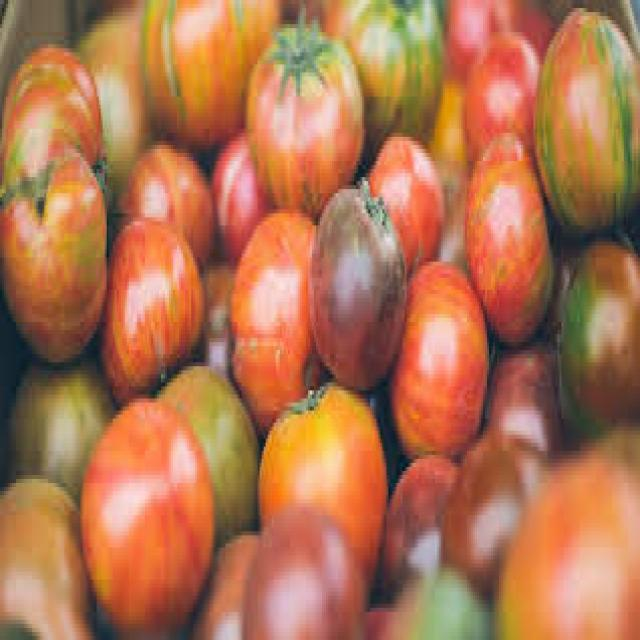food_waste: (297, 178, 448, 472)
